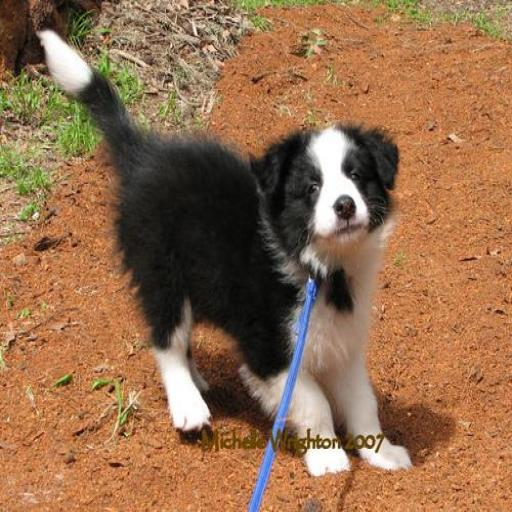dog_face: (250, 126, 397, 251)
